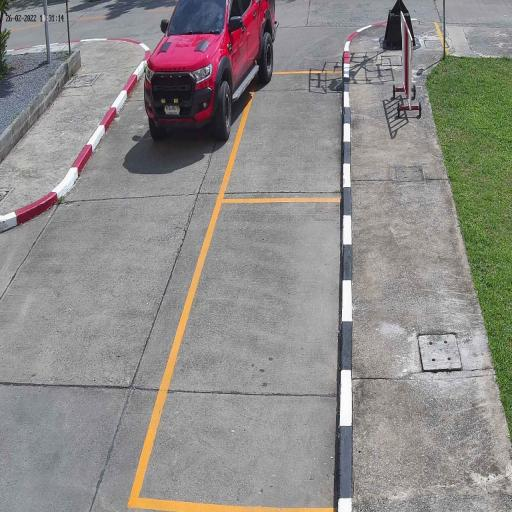car: (143, 0, 278, 143)
